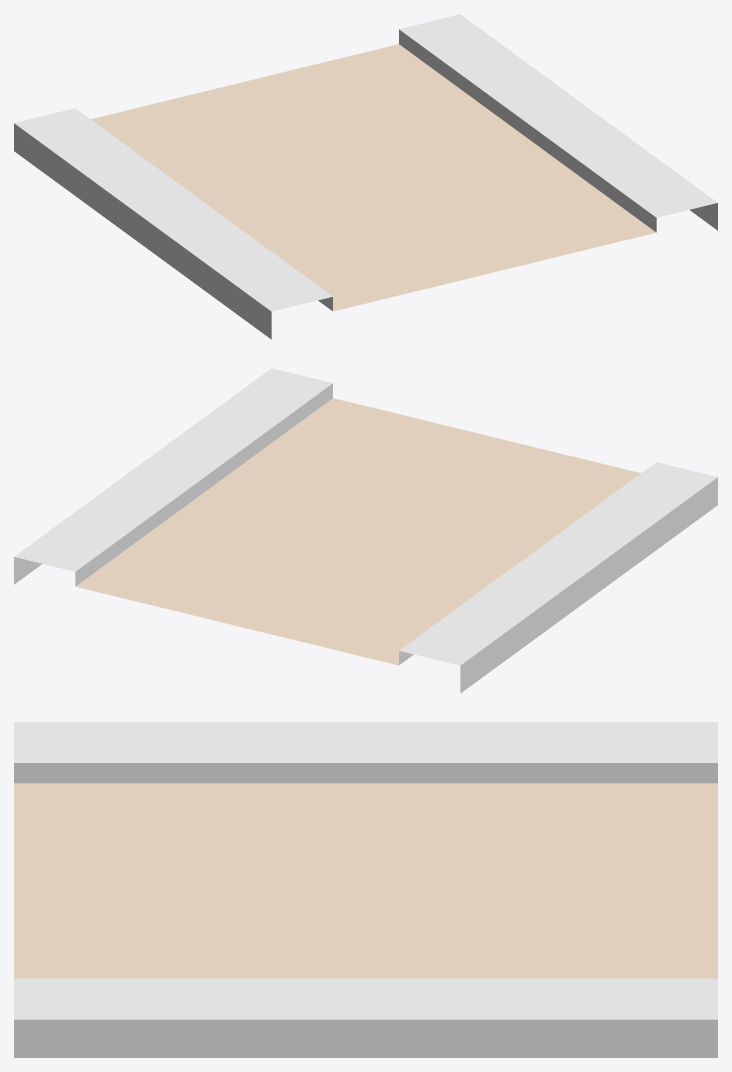
The model's file is sidewalks.fbx.
The picture shows the model from 3 angles, top to bottom: view 1: azimuth 30°, elevation 25°; view 2: azimuth 150°, elevation 25°; view 3: azimuth 270°, elevation 25°; orthographic projection. The views are drawn at different scales.
Parts seen in each view (by area): view 1: Cube.003; view 2: Cube.003; view 3: Cube.003.
Part boxes in pixels (x1=…): Cube.003: x1=14, y1=14, x2=717, y2=339; Cube.003: x1=14, y1=368, x2=717, y2=693; Cube.003: x1=14, y1=722, x2=717, y2=1057.
Bounding box in the file's own units: 200 × 12 × 200.
